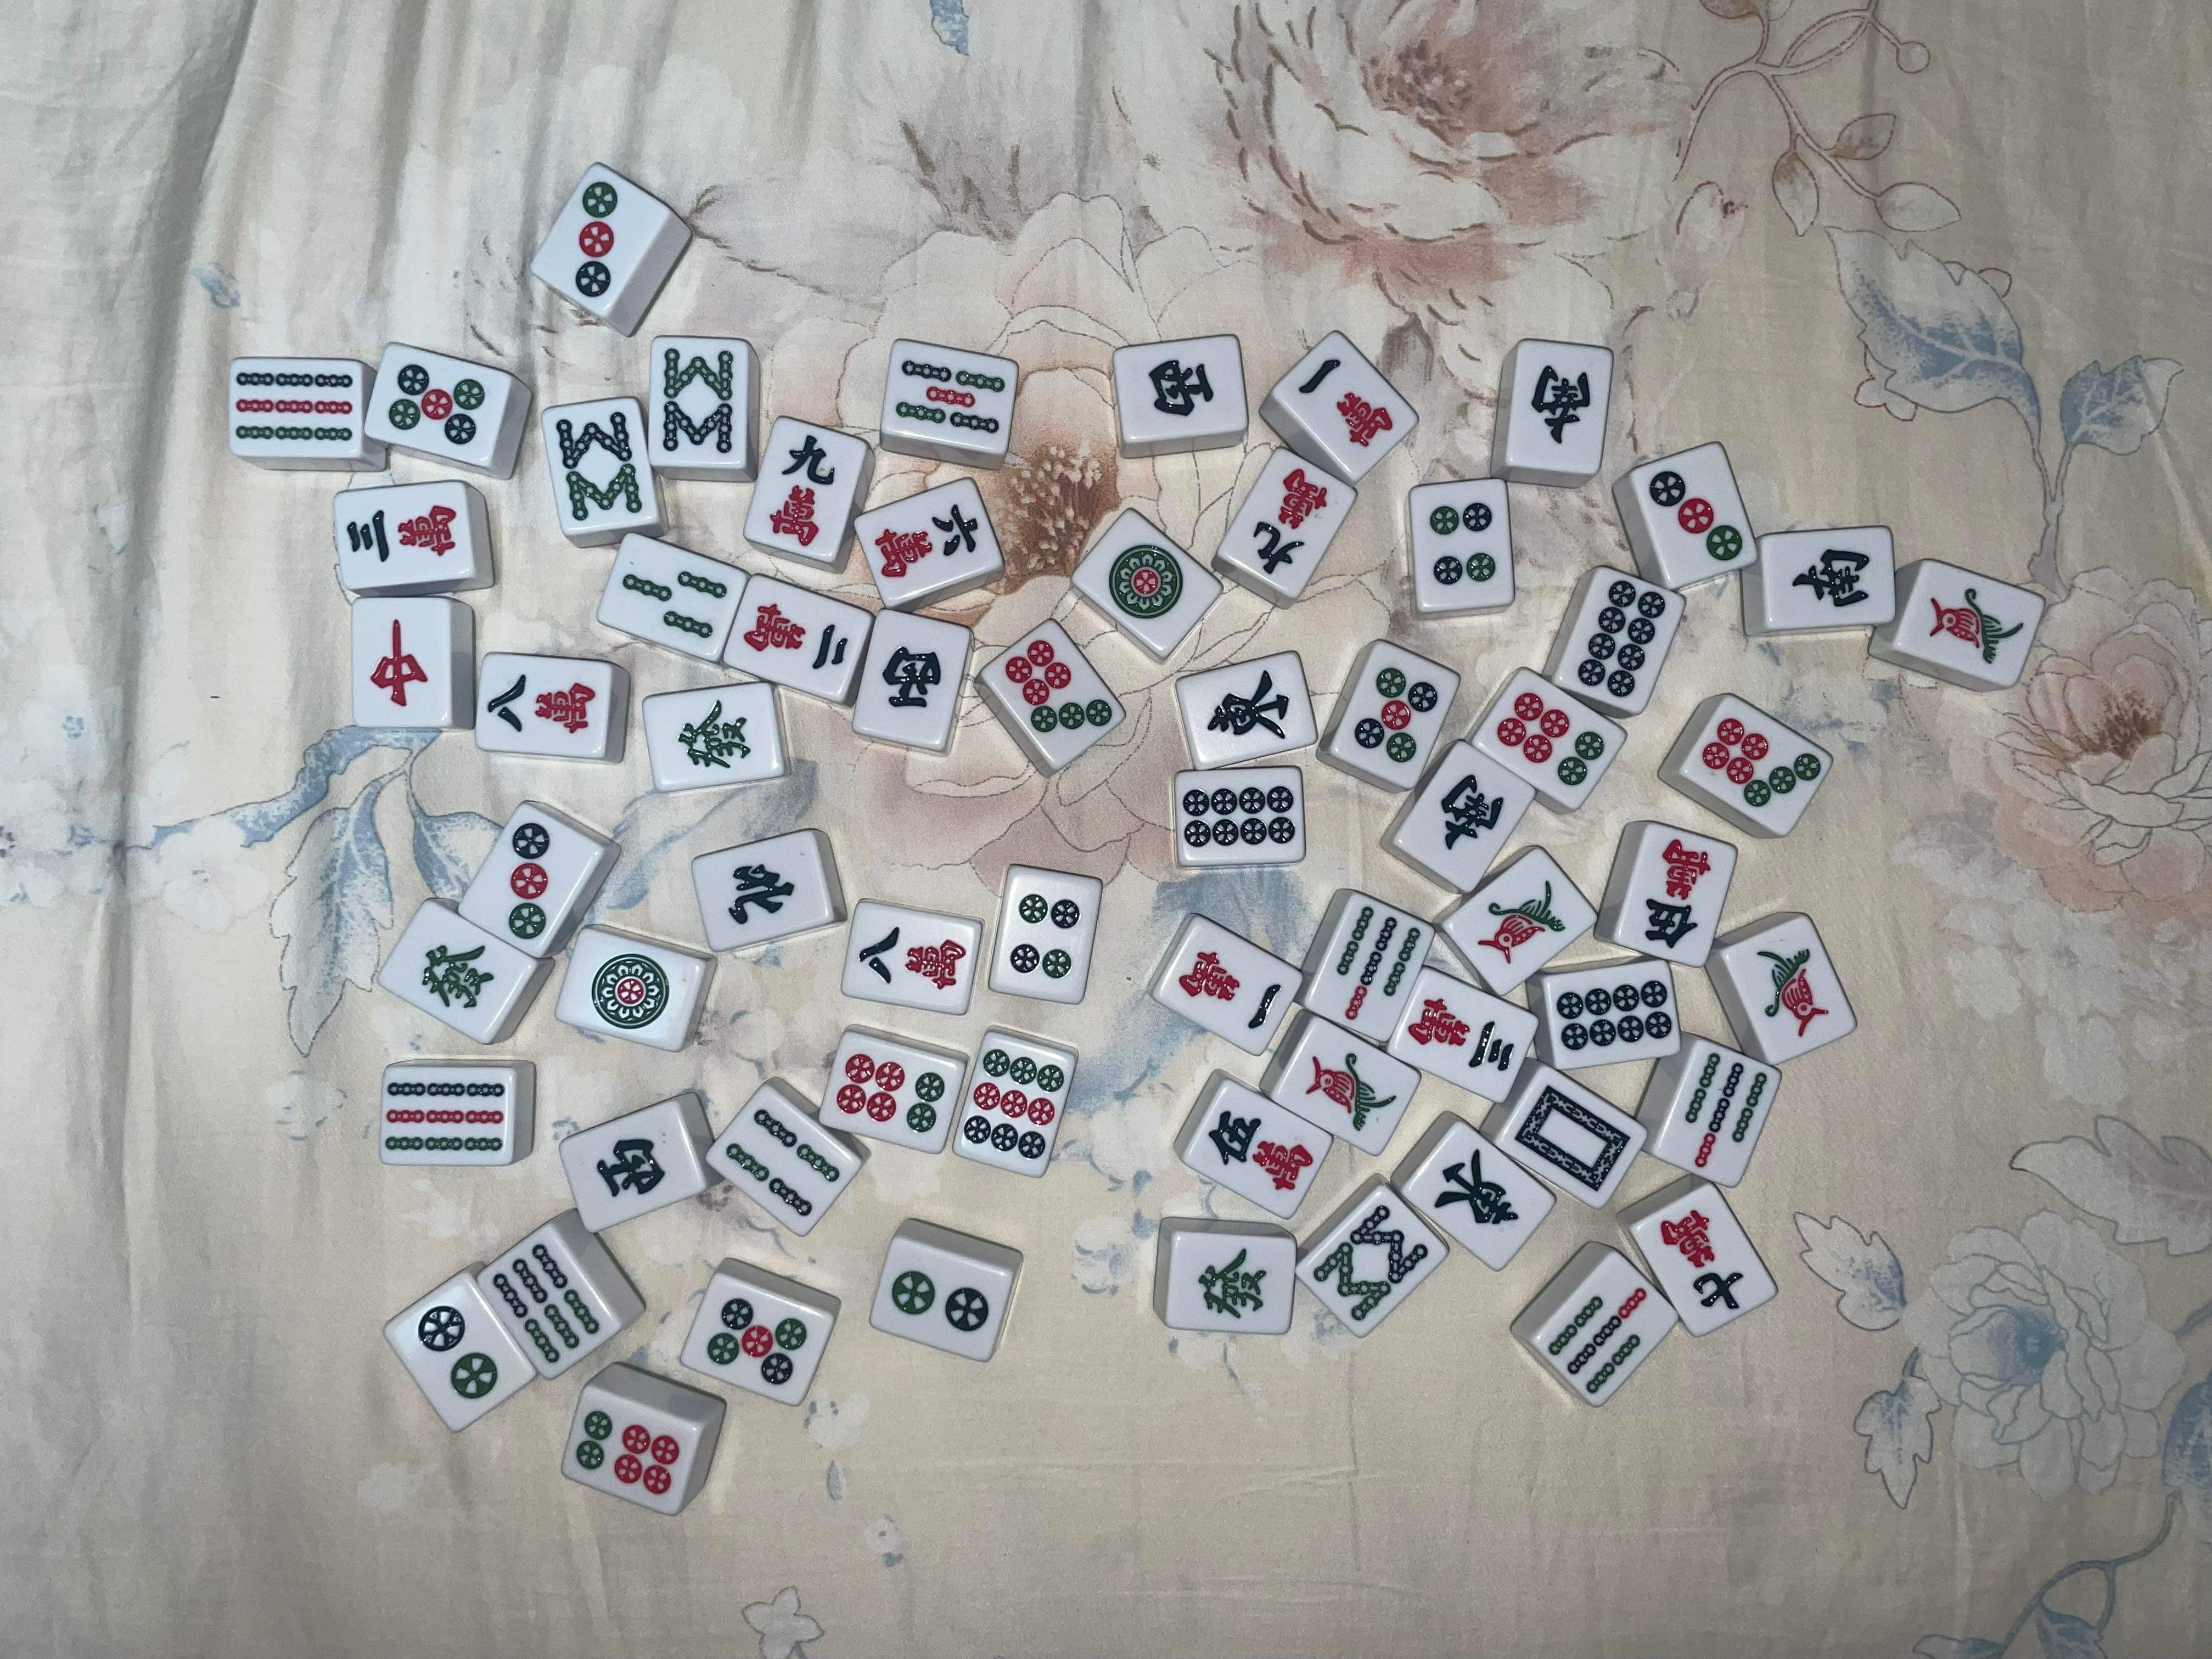b-1: (1926, 584, 2024, 666), (1476, 882, 1565, 965), (1754, 946, 1832, 1040), (1307, 1053, 1396, 1133)
b-3: (622, 570, 727, 638)
b-4: (725, 1108, 840, 1216)
b-5: (896, 357, 1008, 434)
b-7: (1546, 1286, 1649, 1396), (1333, 906, 1421, 1023), (1684, 1051, 1768, 1171)
b-8: (1314, 1202, 1429, 1321), (556, 411, 641, 521), (661, 345, 734, 455)
b-9: (383, 1077, 506, 1152), (234, 369, 354, 444)
c-1: (1300, 357, 1393, 451), (1178, 950, 1283, 1030)
c-2: (744, 601, 851, 671)
c-3: (1407, 997, 1515, 1073), (345, 504, 458, 563)
c-5: (1206, 1110, 1314, 1194), (1642, 836, 1712, 950)
c-6: (873, 502, 978, 579)
c-7: (1659, 1208, 1748, 1310)
c-8: (486, 671, 598, 737), (856, 925, 967, 990)
c-9: (1252, 469, 1327, 577), (769, 432, 837, 547)
d-1: (589, 951, 669, 1028), (1110, 544, 1185, 620)
d-2: (417, 1305, 500, 1403), (889, 1269, 992, 1338)
d-3: (1649, 471, 1743, 561), (507, 823, 551, 939), (575, 181, 617, 296)
d-4: (1009, 894, 1081, 979), (1429, 502, 1499, 587)
d-5: (708, 1297, 809, 1389), (383, 364, 490, 446), (1353, 666, 1440, 763)
d-6: (1496, 692, 1605, 788), (573, 1410, 682, 1495), (835, 1054, 947, 1134)
d-7: (1701, 716, 1822, 809), (1004, 638, 1112, 732)
d-8: (1578, 580, 1666, 697), (1555, 978, 1673, 1051), (1184, 784, 1295, 849)
d-9: (962, 1047, 1065, 1161)
honors-east: (1433, 1148, 1520, 1227), (1206, 667, 1292, 742)
honors-green: (676, 697, 757, 770), (417, 941, 495, 1012), (1196, 1251, 1274, 1319)
honors-north: (730, 859, 797, 927)
honors-red: (368, 617, 429, 709)
honors-south: (1529, 361, 1593, 446), (1440, 774, 1506, 852), (1790, 549, 1876, 608)
honors-west: (493, 1244, 601, 1364), (593, 1136, 666, 1199), (1149, 355, 1217, 418), (884, 643, 947, 709)
honors-white: (1513, 1086, 1632, 1192)
